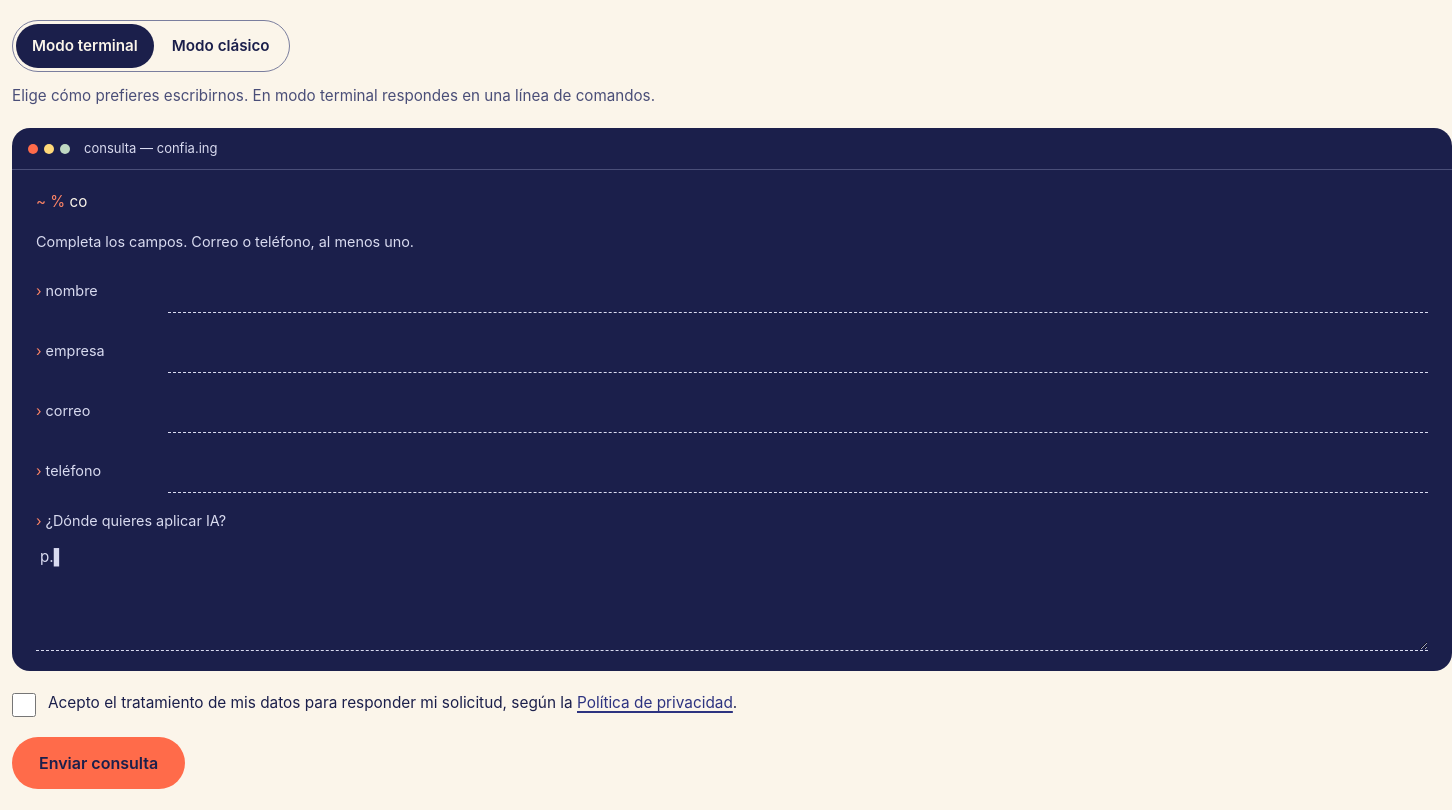
Scenario: formulario en modo terminal › envío aceptado: manda los datos esperados y muestra la confirmación en role=status, con el foco
Type "Ana Ruiz" into the field labelled "Nombre" at (798, 292), box [168, 270, 1428, 314]
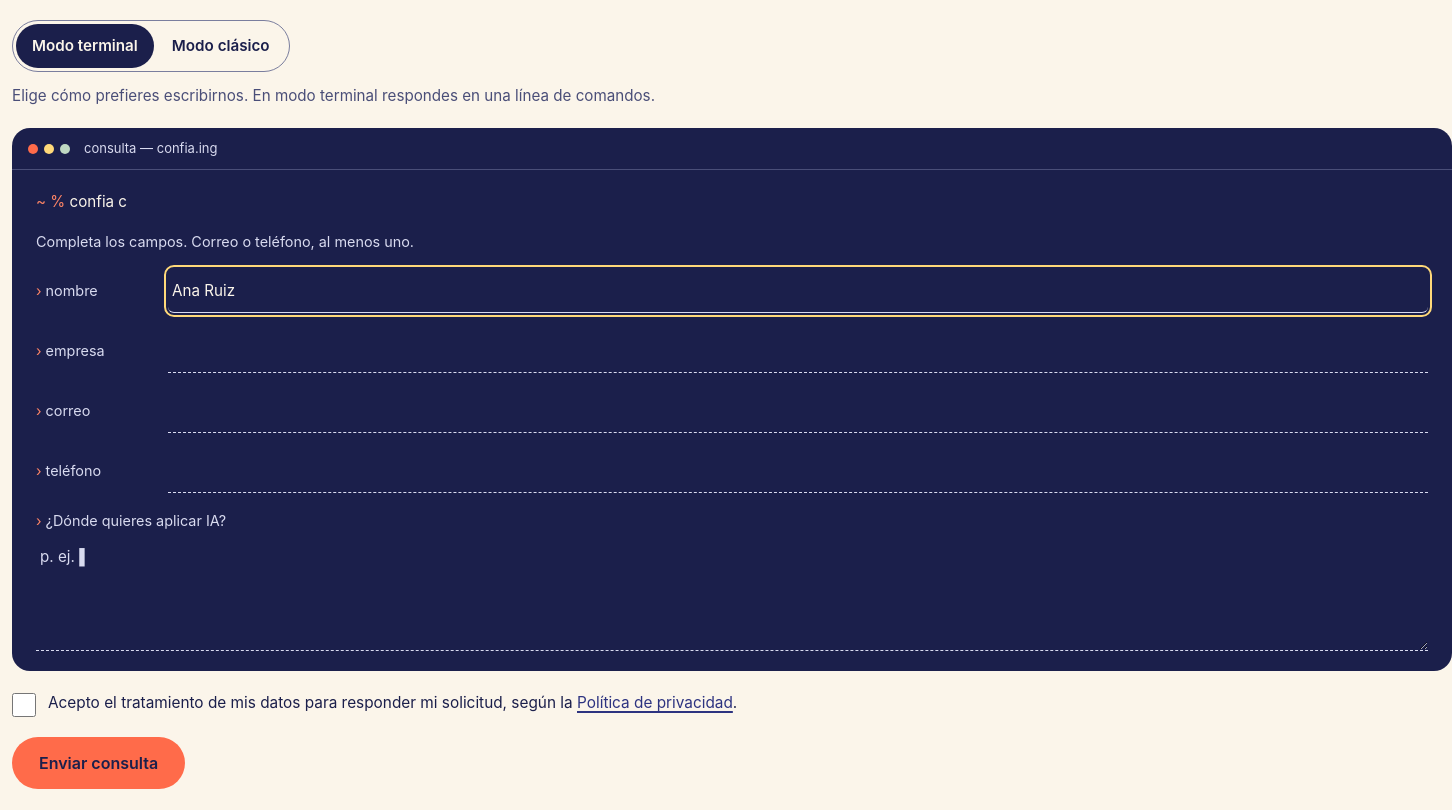
Type "Acme" into the field labelled "Empresa" at (798, 352), box [168, 330, 1428, 374]
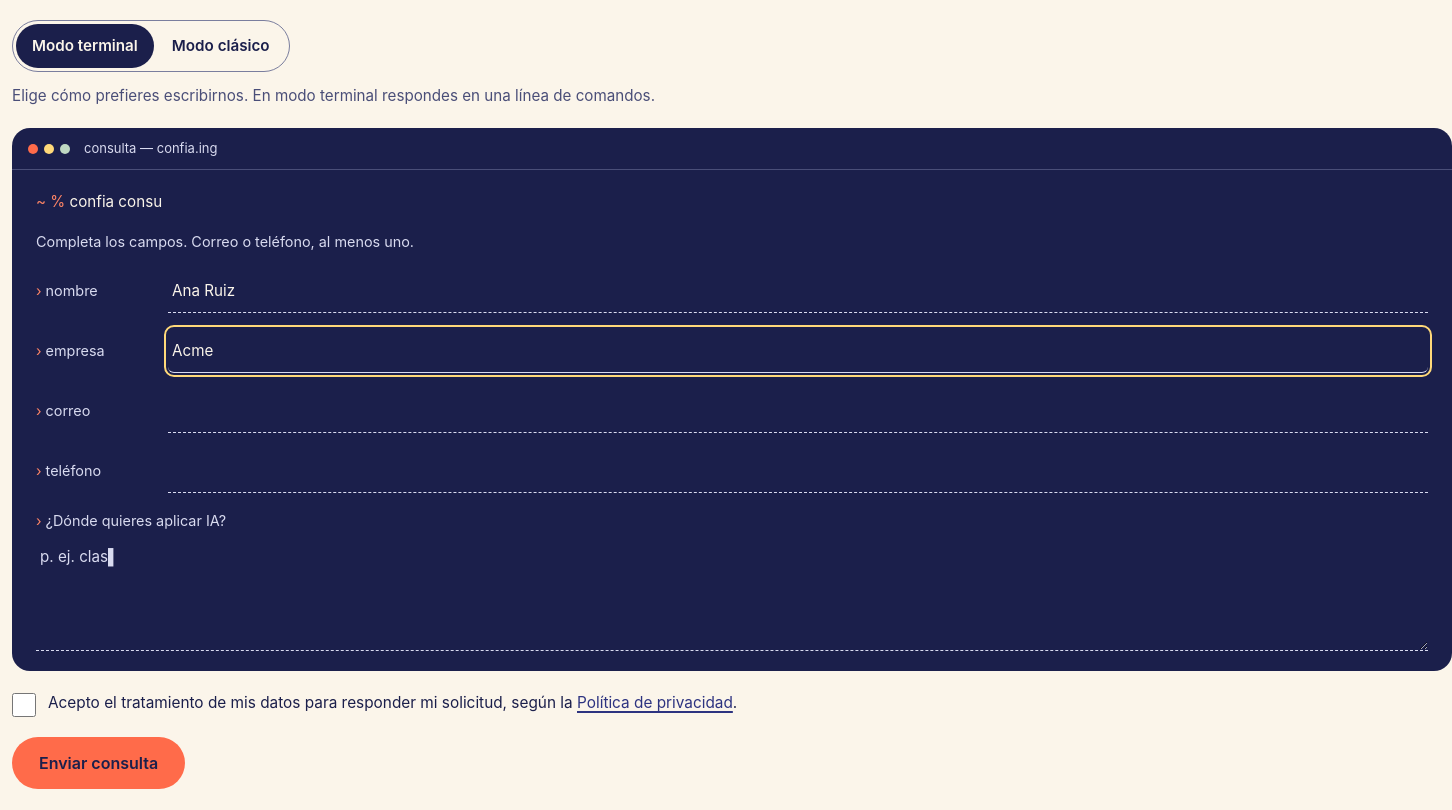
Type "ana@empresa.com" into the field labelled "Correo" at (798, 412), box [168, 390, 1428, 434]
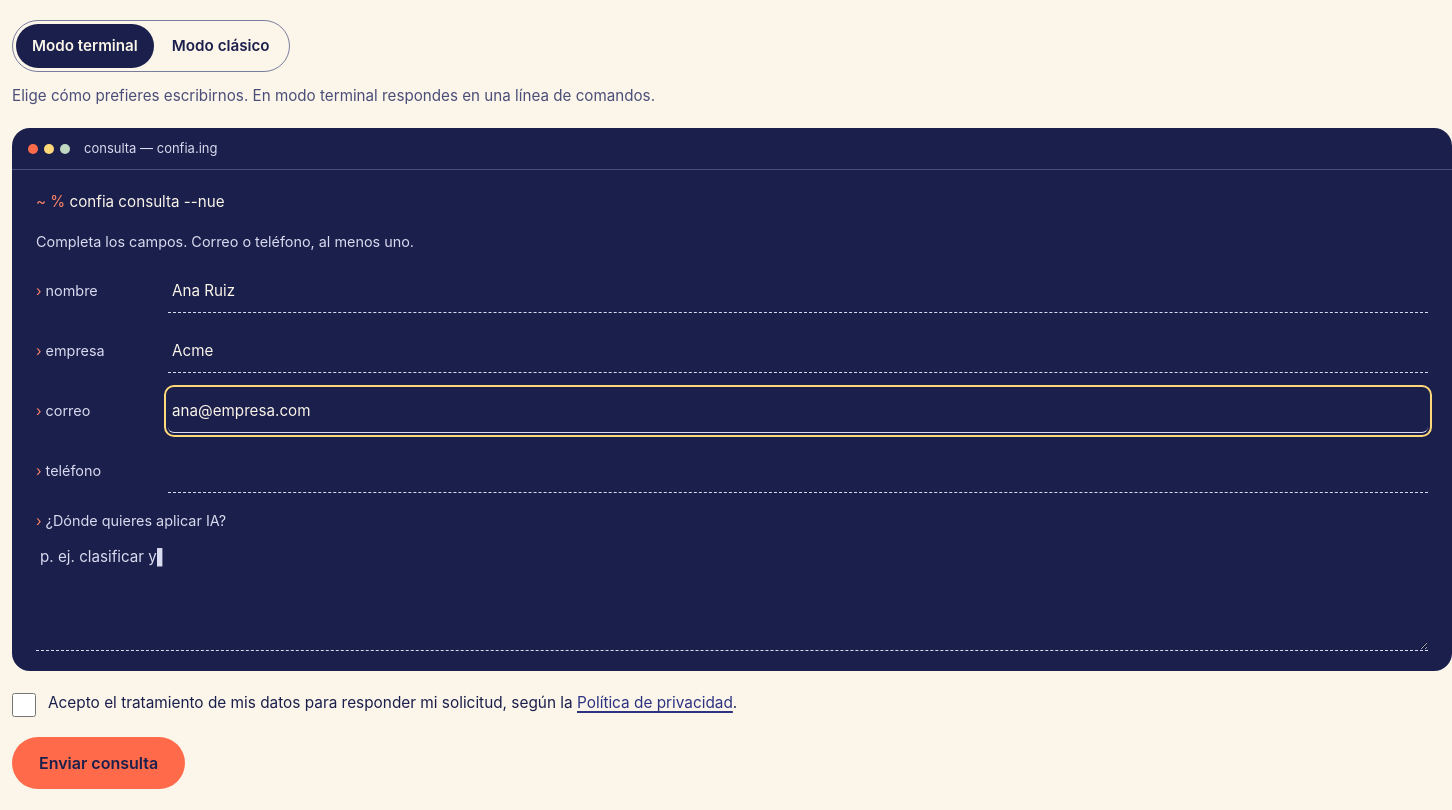
Type "Conciliar facturas" into the text box labelled "¿Dónde quieres aplicar IA?" at (732, 594), box [36, 536, 1428, 651]
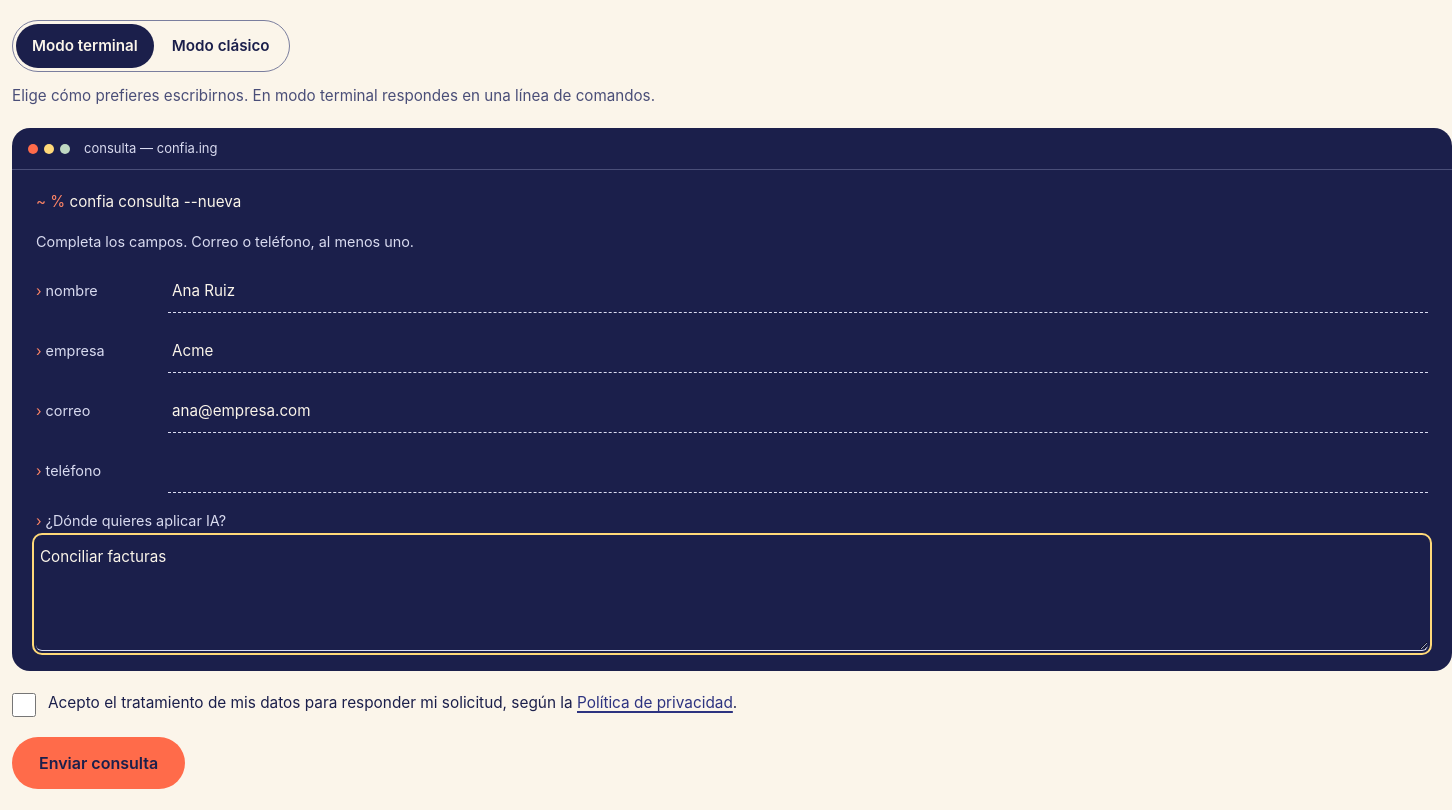
Click the checkbox at (24, 705), box [12, 693, 36, 717]
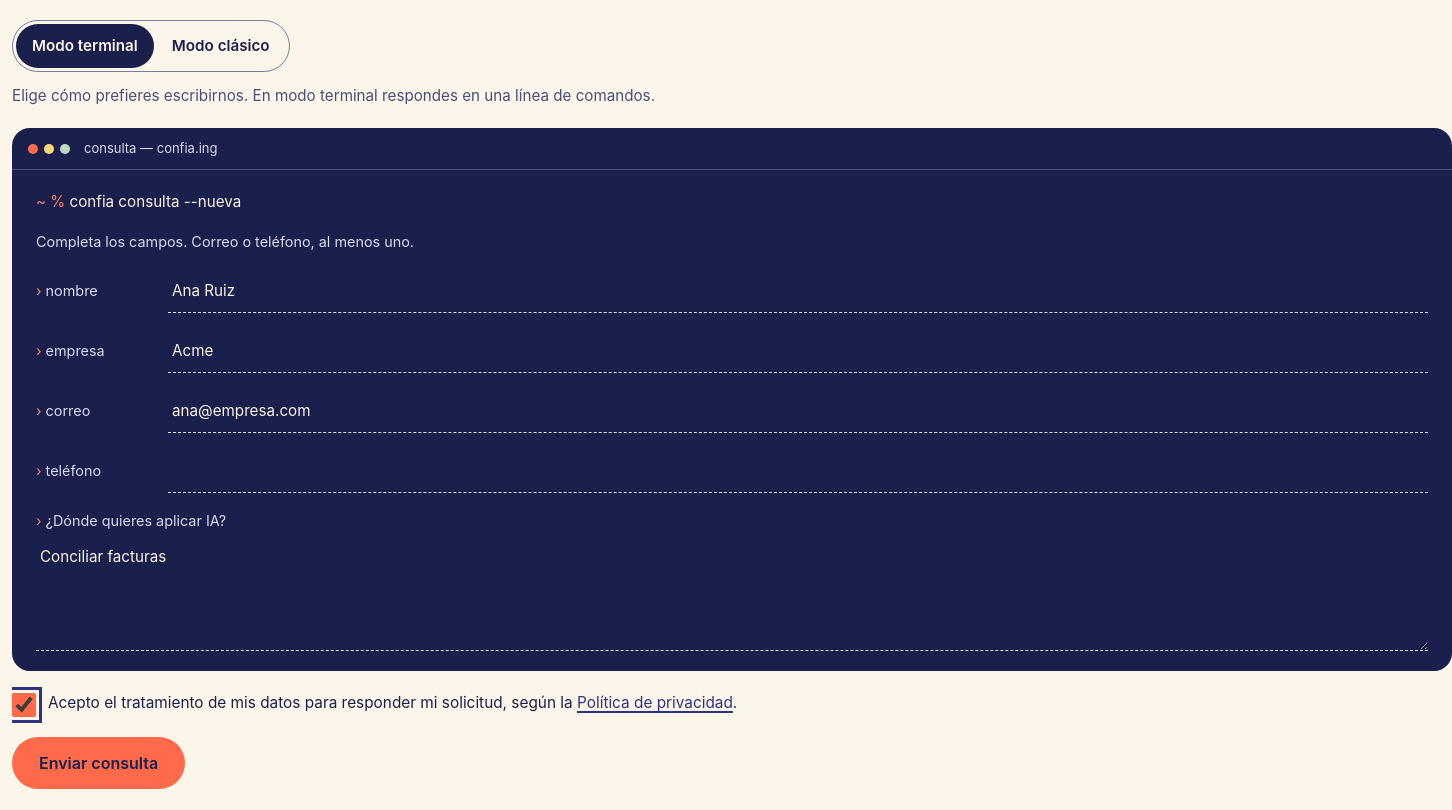
Click the button "Enviar consulta" at (99, 763), box [12, 737, 185, 789]
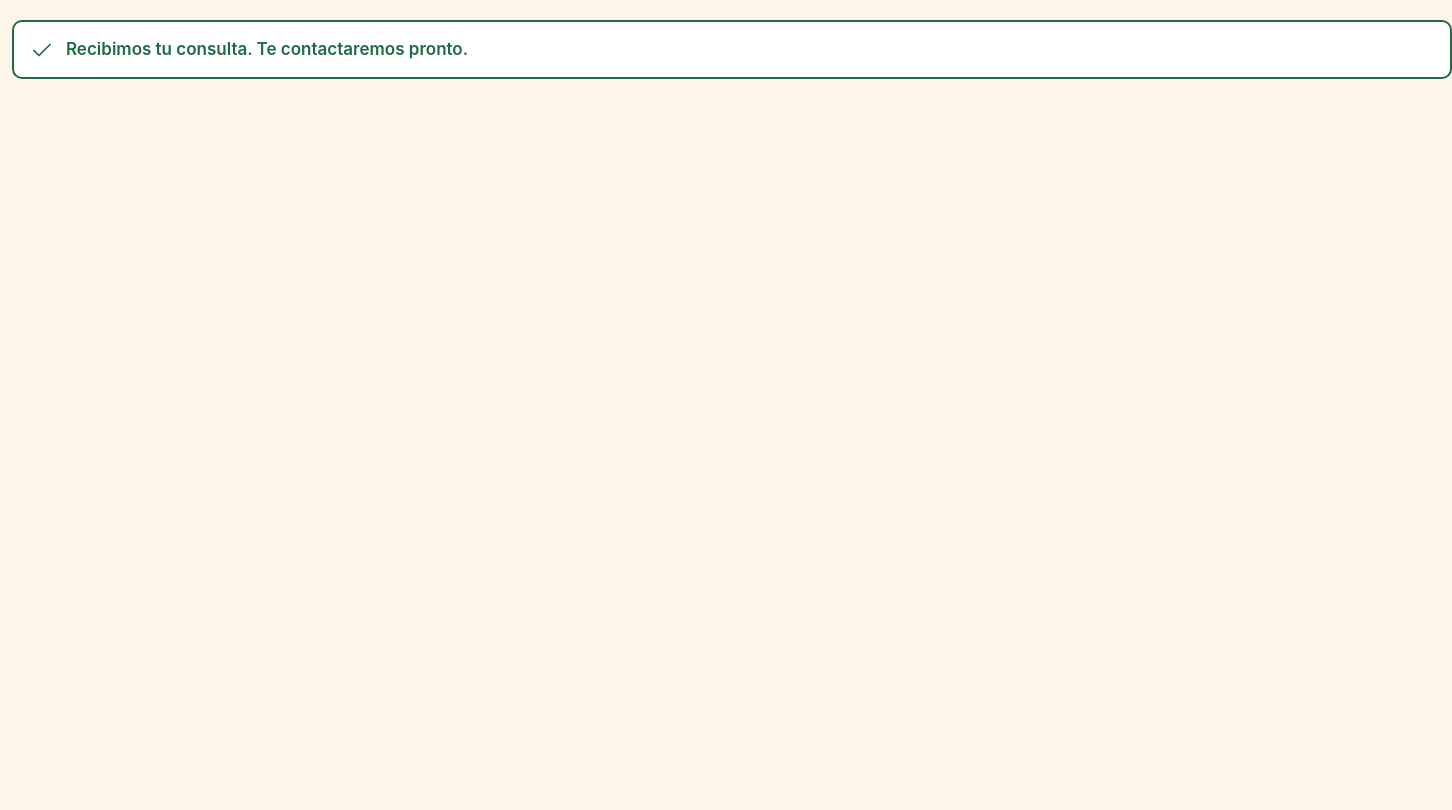
Now the message reads "Recibimos tu consulta. Te contactaremos pronto.", box [66, 39, 468, 59]
Now the checkbox is gone
